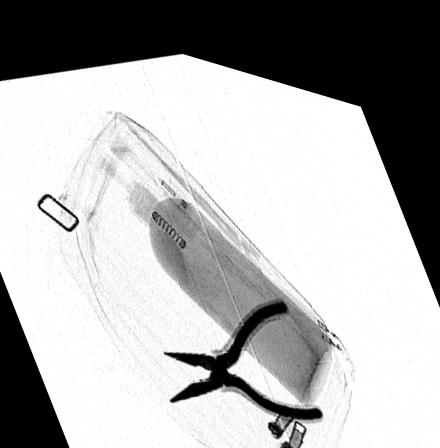Pliers: (162, 282, 323, 405)
